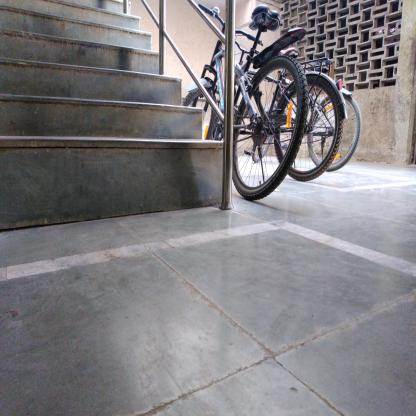stairs: (1, 16, 144, 231)
